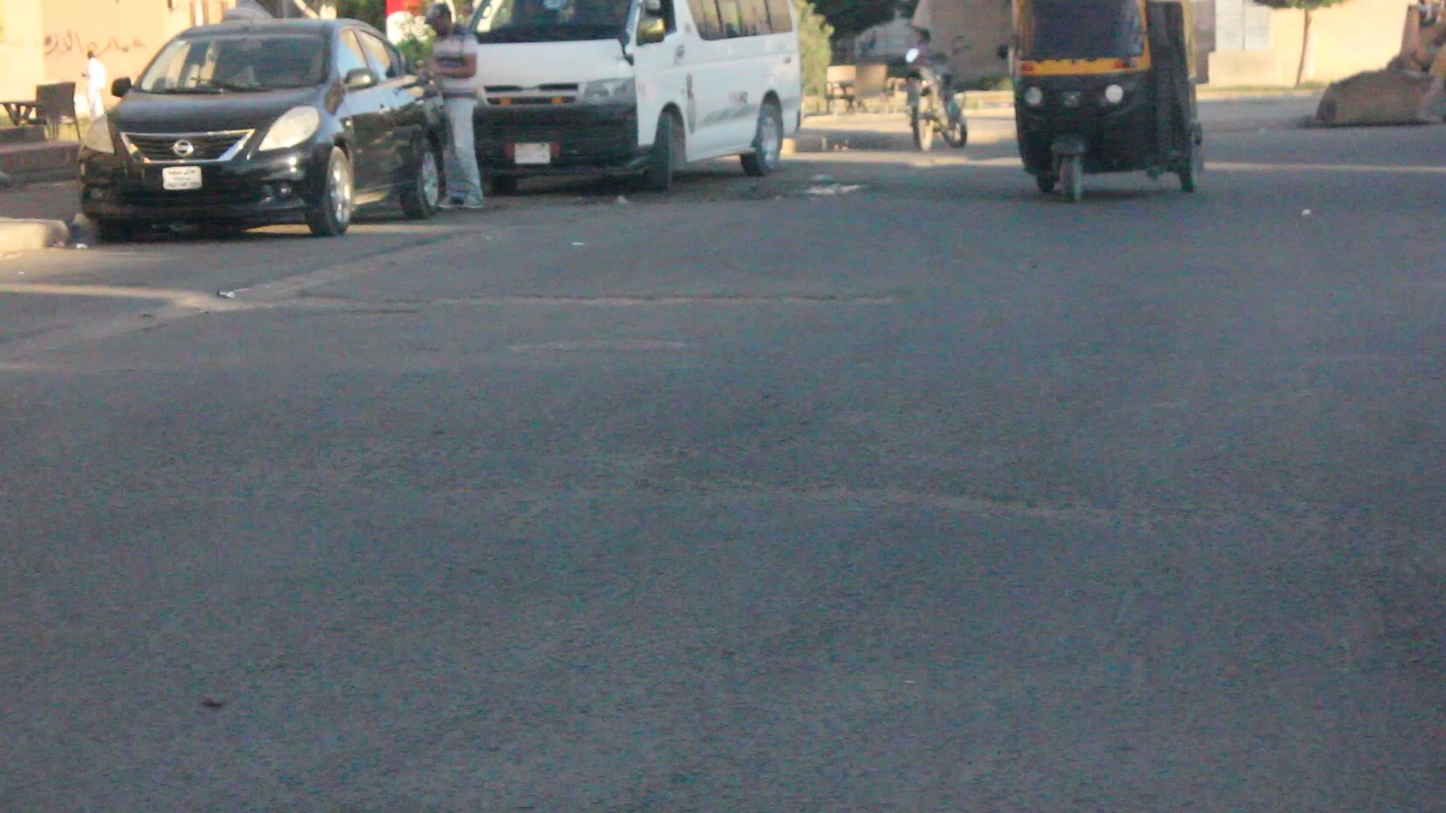Pothole: (288, 282, 896, 318)
